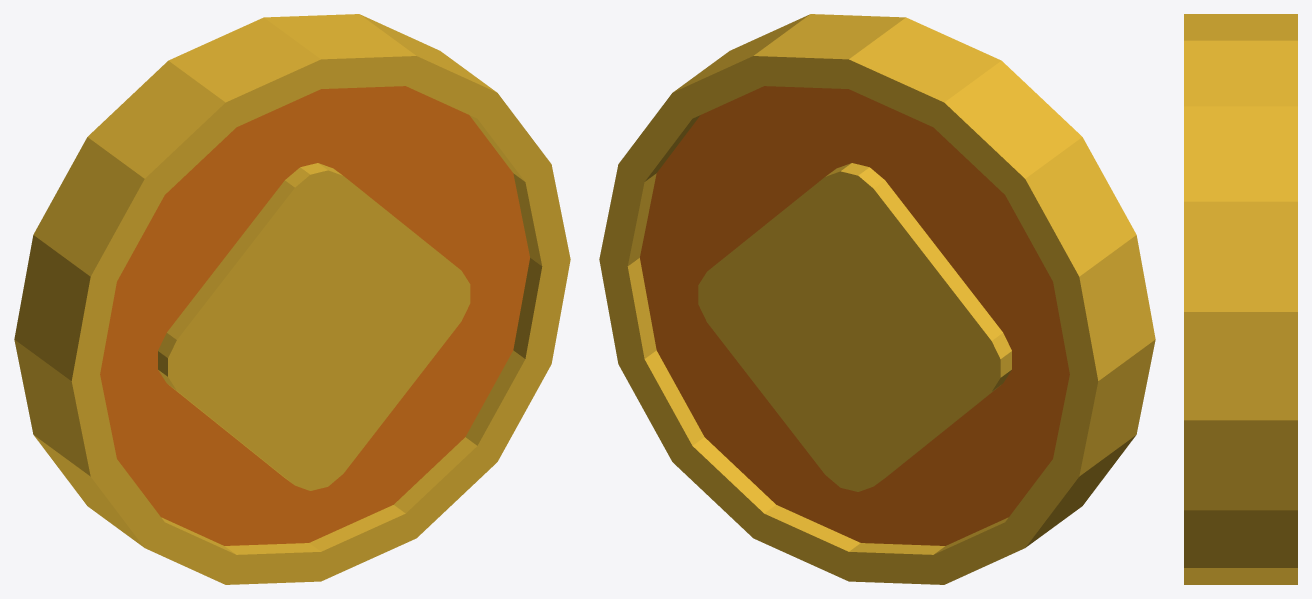
Rendered from coin02.fbx.
The picture shows the model from 3 angles, left to right: view 1: azimuth 30°, elevation 25°; view 2: azimuth 150°, elevation 25°; view 3: azimuth 270°, elevation 25°; orthographic projection.
Visible parts, largest first — view 1: Coin02; view 2: Coin02; view 3: Coin02.
Part boxes in pixels (x1=…): Coin02: x1=14, y1=14, x2=570, y2=584; Coin02: x1=599, y1=14, x2=1155, y2=584; Coin02: x1=1184, y1=14, x2=1297, y2=584.
Bounding box in the file's own units: 84.1 × 84.1 × 16.74.
